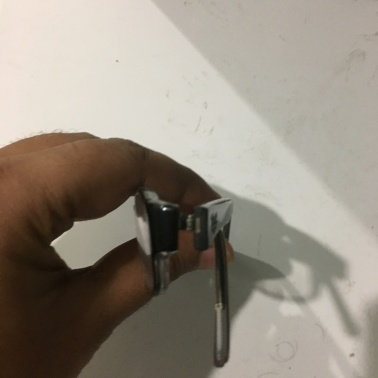glasses: (109, 184, 258, 303)
